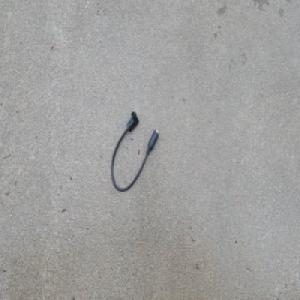Wire: (109, 108, 160, 193)
